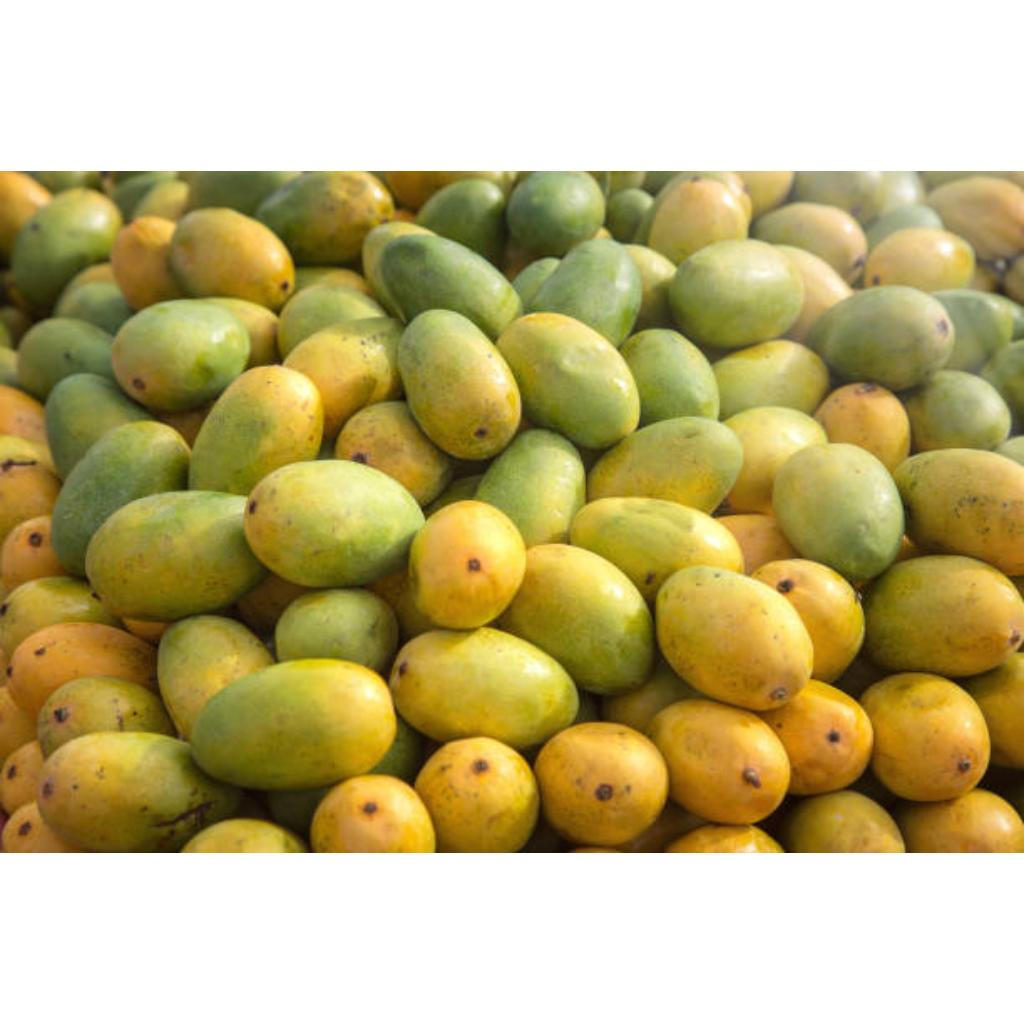mango: (190, 659, 394, 790), (36, 733, 242, 853), (86, 491, 266, 620), (390, 627, 578, 750), (244, 461, 426, 588), (656, 567, 812, 711), (52, 421, 190, 576), (864, 555, 1024, 678), (496, 313, 640, 448), (398, 309, 522, 461), (570, 497, 743, 602), (648, 701, 790, 824), (191, 365, 324, 494), (860, 673, 990, 802), (536, 725, 668, 846), (112, 299, 250, 412), (408, 501, 526, 630), (588, 417, 744, 514), (670, 239, 804, 348), (284, 319, 404, 440), (416, 737, 540, 852), (6, 623, 157, 716), (160, 617, 274, 738), (474, 429, 586, 547), (760, 681, 874, 796), (170, 207, 294, 308), (530, 239, 640, 346), (36, 677, 176, 756), (310, 777, 436, 853), (894, 789, 1024, 853), (780, 791, 904, 854), (278, 289, 386, 356)
